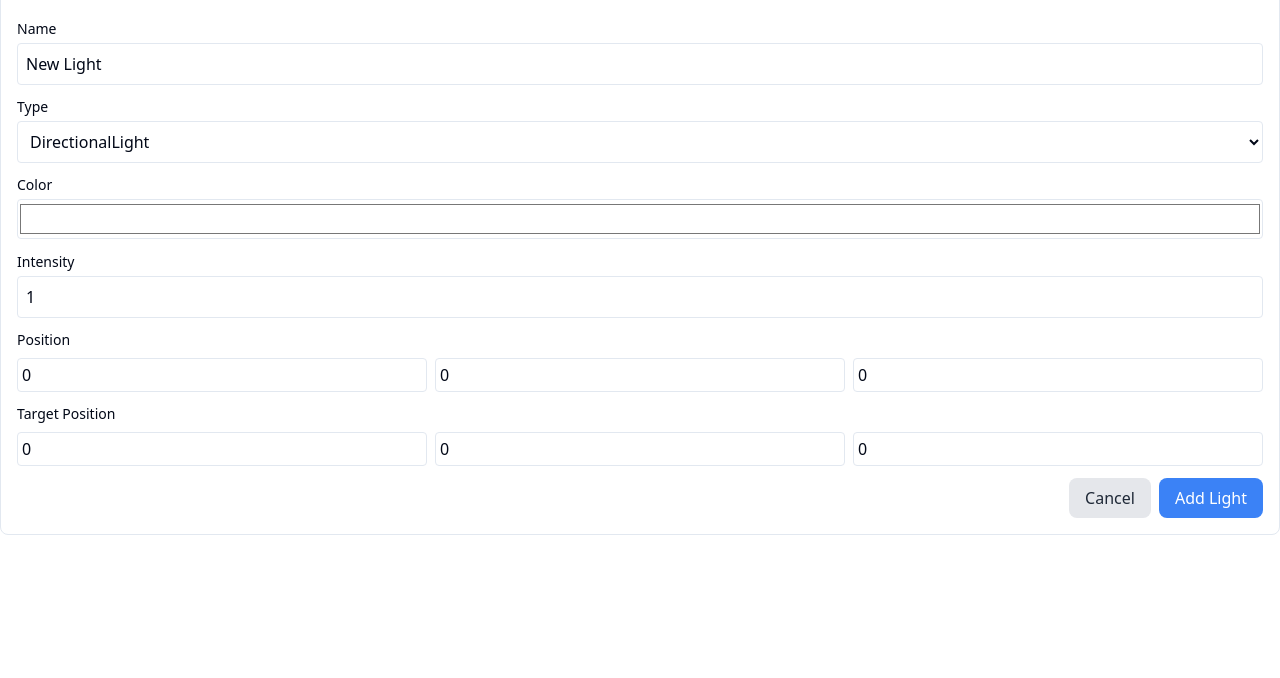
Test: LightCreator › conditionally renders angle and penumbra for spot light
Expected: the field labelled "Angle" is not shown
Expected: the field labelled "Penumbra" is not shown
Select "AmbientLight" in the dropdown labelled "Type": (640, 142) [17,121,1263,163]
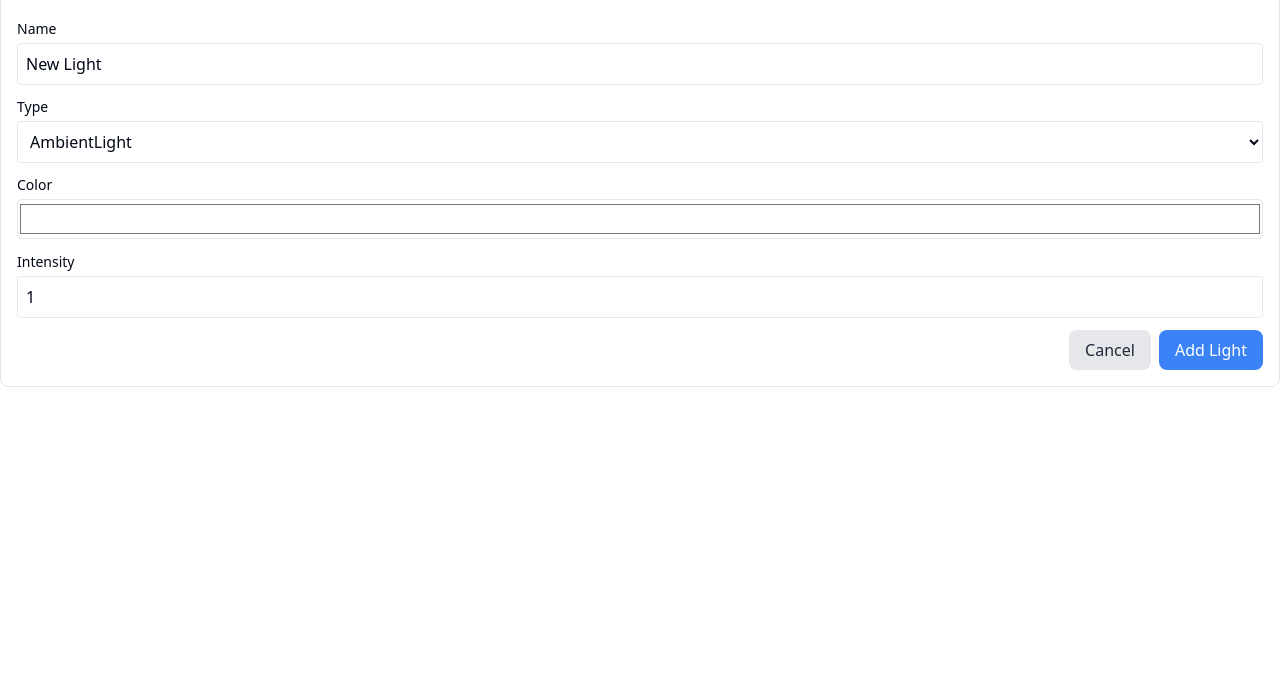
Expected: the field labelled "Angle" is not shown
Expected: the field labelled "Penumbra" is not shown
Select "DirectionalLight" in the dropdown labelled "Type": (640, 142) [17,121,1263,163]
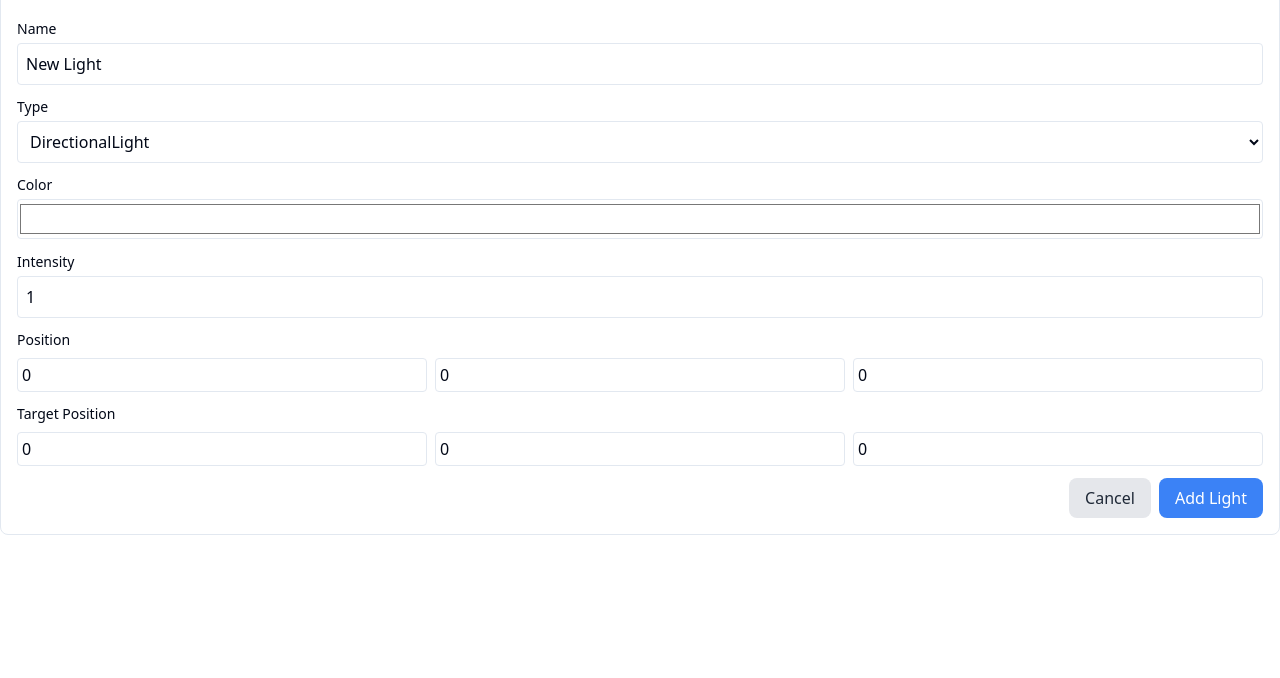
Expected: the field labelled "Angle" is not shown
Expected: the field labelled "Penumbra" is not shown
Select "PointLight" in the dropdown labelled "Type": (640, 142) [17,121,1263,163]
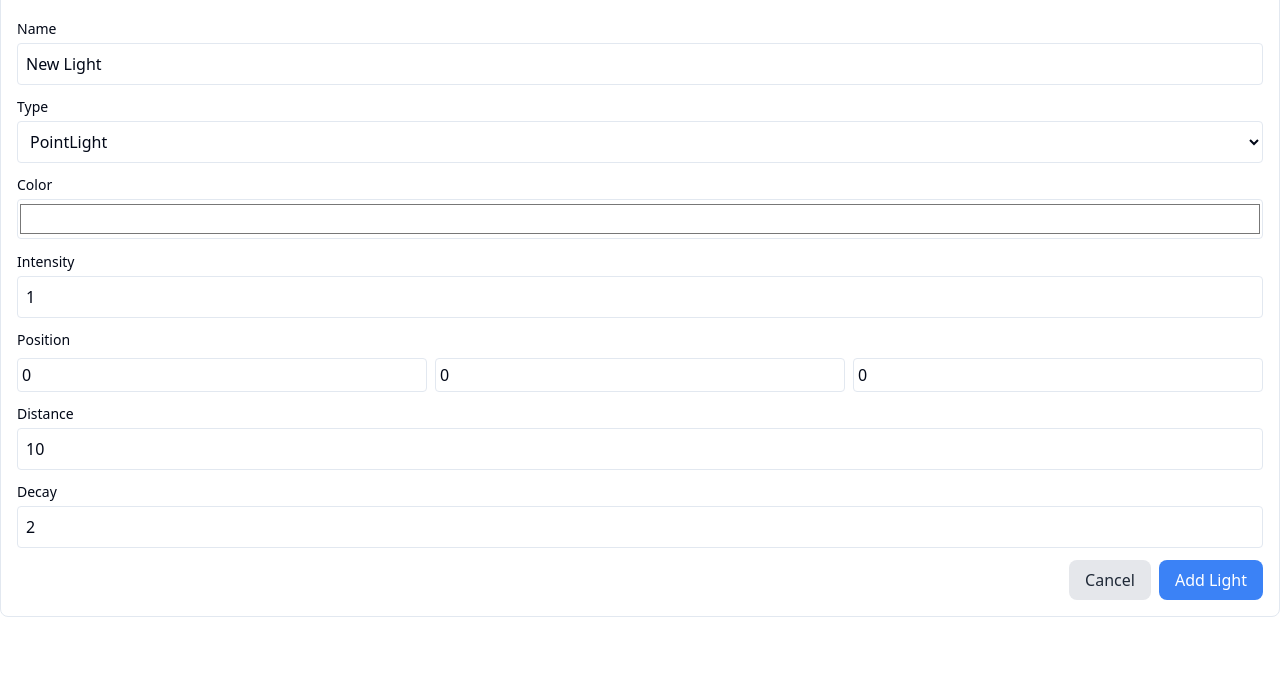
Expected: the field labelled "Angle" is not shown
Expected: the field labelled "Penumbra" is not shown
Select "SpotLight" in the dropdown labelled "Type": (640, 142) [17,121,1263,163]
(page scrolled)
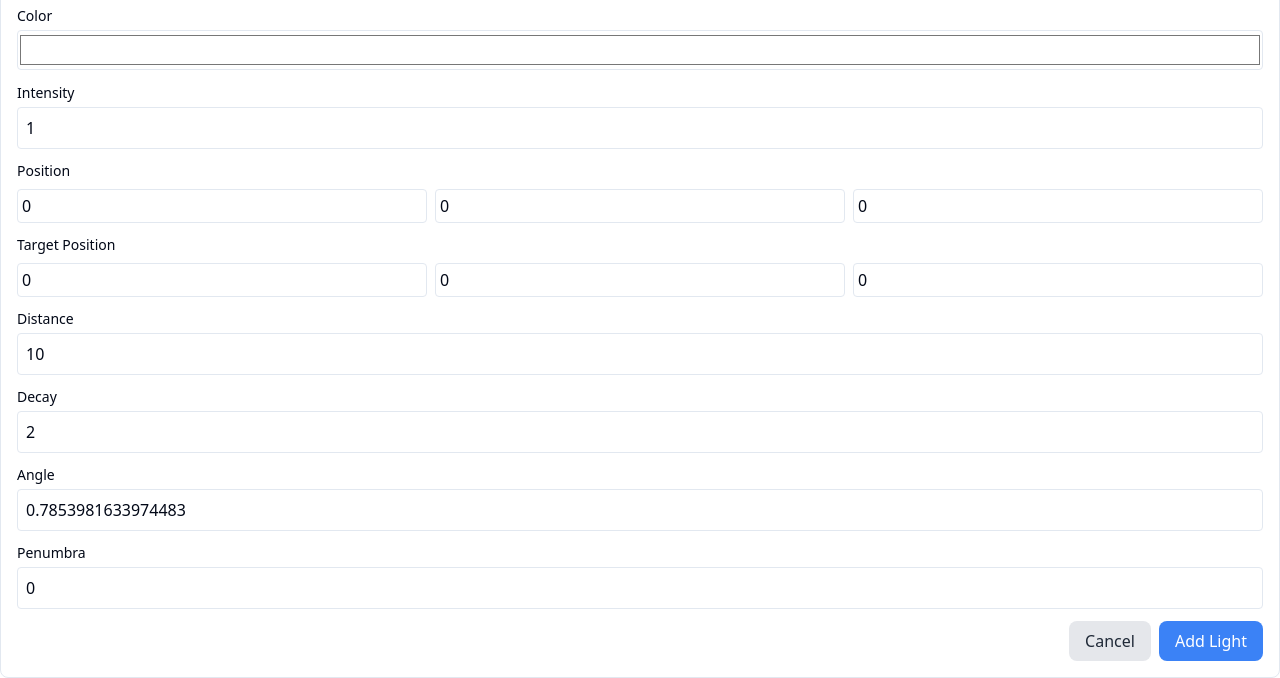
Expected: the number field labelled "Angle" is shown, [17,489,1263,531]
Expected: the number field labelled "Penumbra" is shown, [17,567,1263,609]
